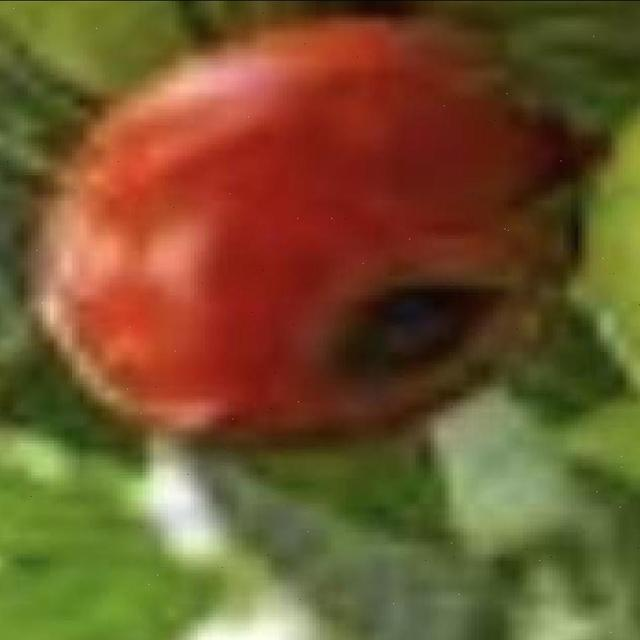Blossom End Rot Fruit: (205, 173, 325, 258)
